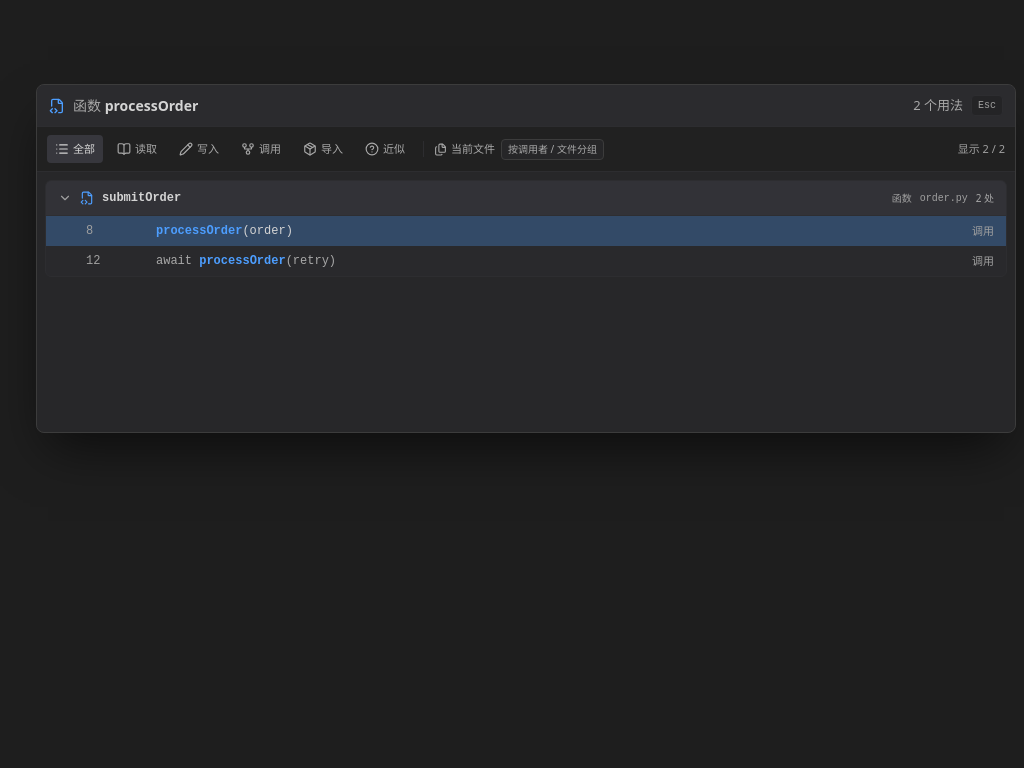
Test case: DefinitionPicker › groups reference locations by caller and supports collapsing a group
The image size is (1024, 768).
Check: the text "当前文件" is shown, box [434,141,495,157]
Check: the text "按调用者 / 文件分组" is shown, box [501,138,604,160]
Click the button with aria-label "折叠用法分组 submitOrder": (142, 198) [46,181,1006,216]
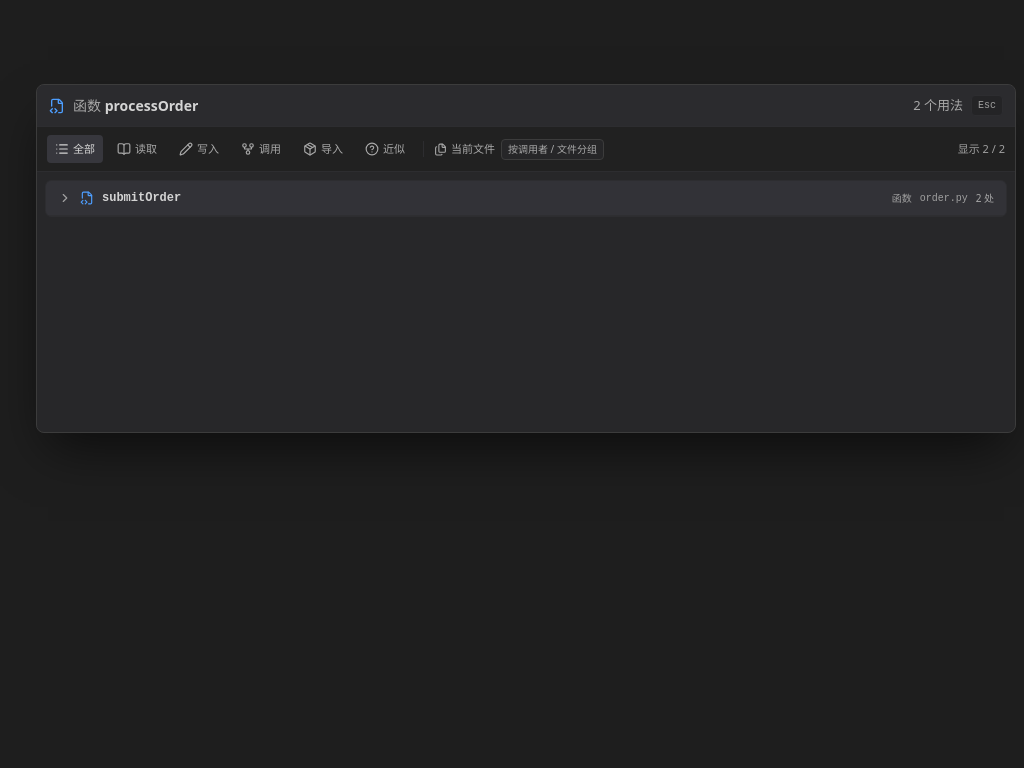
Check: the button with aria-label "展开用法分组 submitOrder" is shown, box [46,181,1006,216]
Check: the dialog no longer shows "await processOrder(retry)", box [36,84,1016,433]
